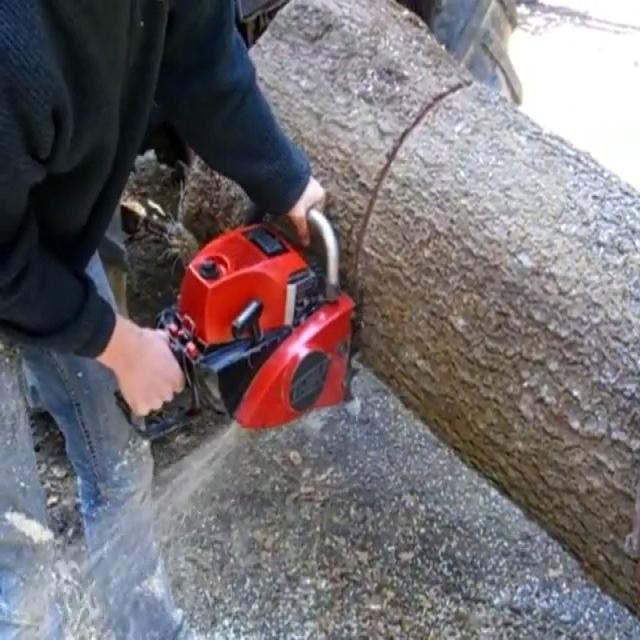Chainsaw: (104, 178, 391, 457)
